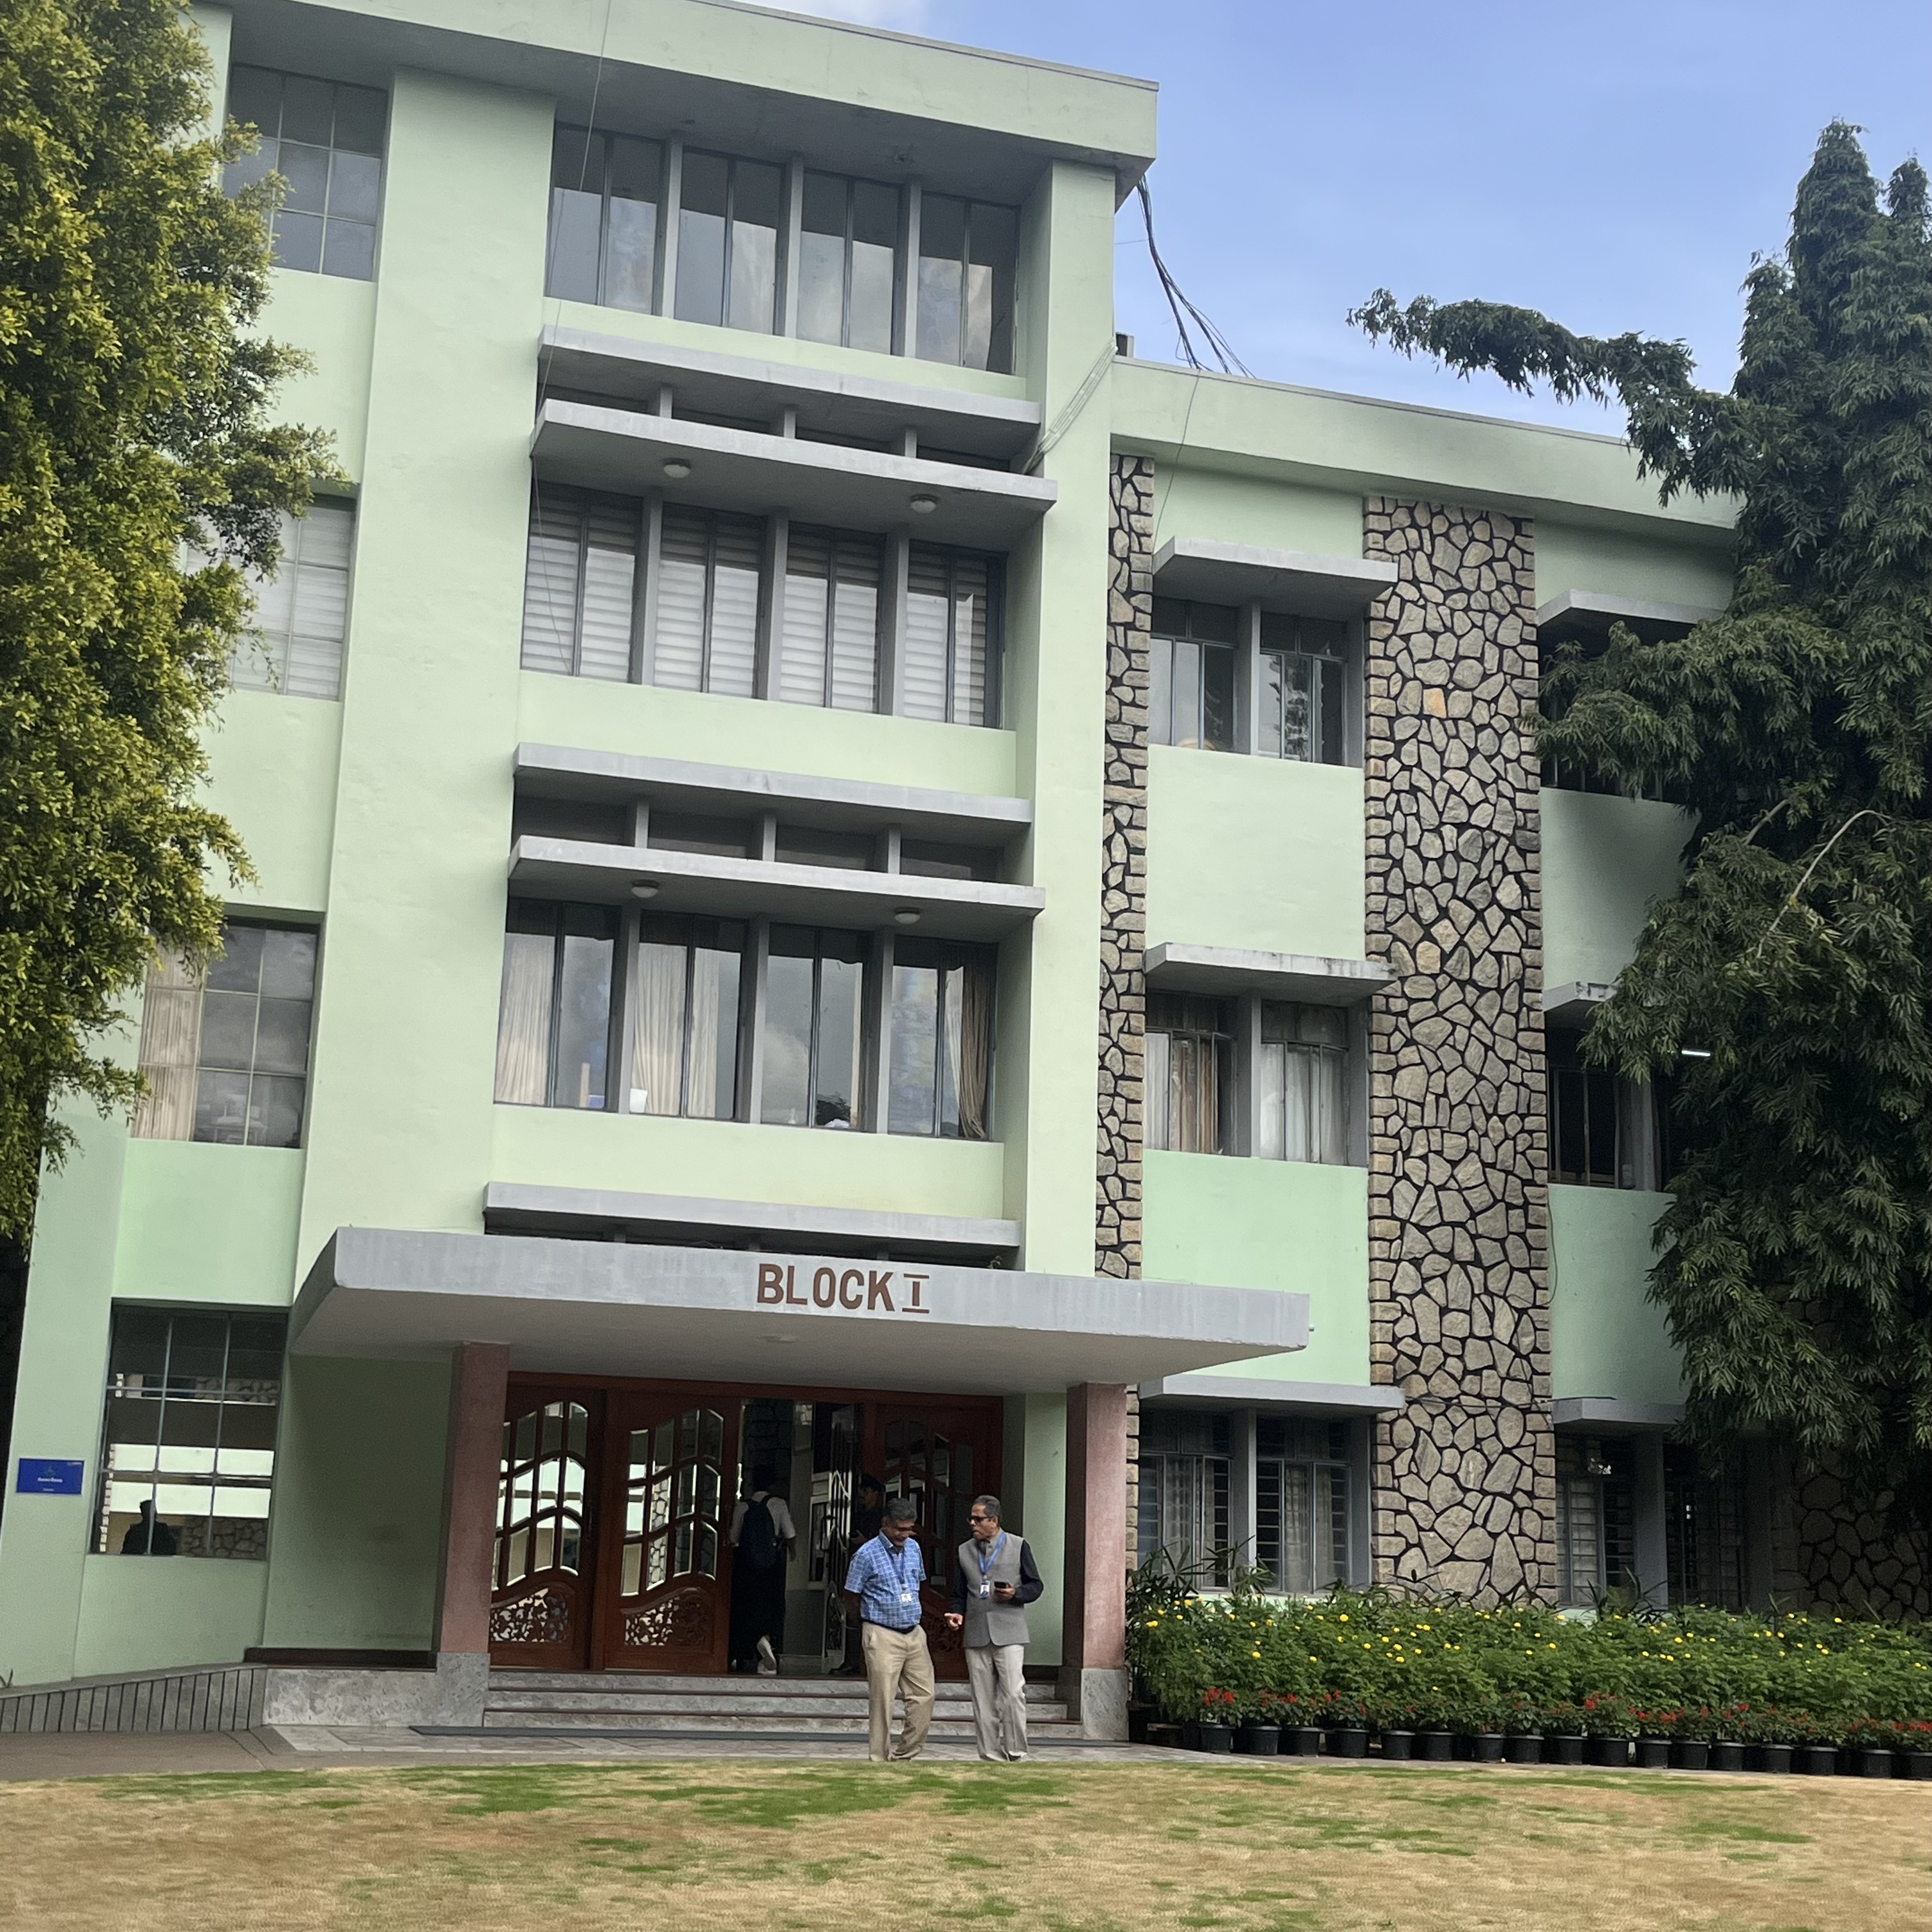Block 1: (212, 27, 1663, 1606)
